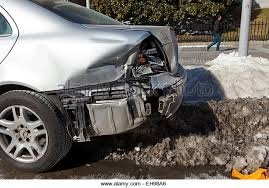Broken-glass: (126, 32, 172, 79)
Dent: (61, 41, 141, 91), (88, 34, 127, 45)
